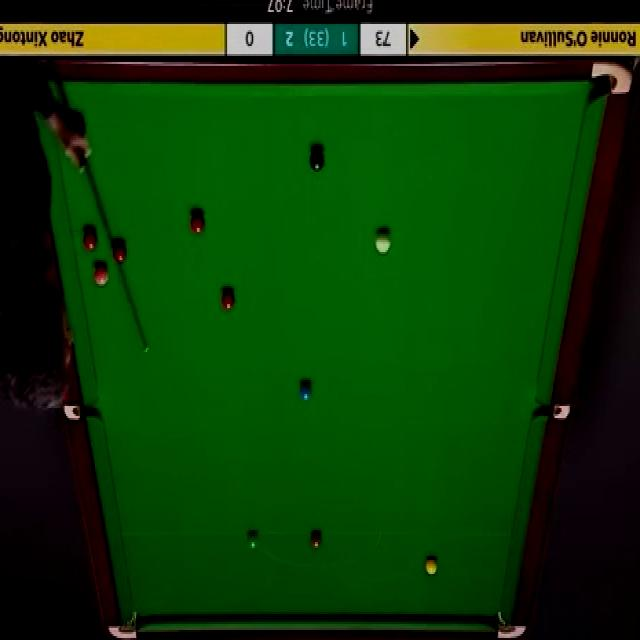black-ball: (309, 147, 325, 174)
blue-ball: (299, 379, 312, 401)
brown-ball: (310, 530, 322, 547)
green-ball: (247, 530, 258, 550)
pink-ball: (92, 262, 109, 287)
red-ball: (189, 210, 207, 235), (220, 288, 235, 313), (82, 229, 99, 249), (112, 241, 127, 262)
white-ball: (374, 228, 393, 256)
yellow-ball: (424, 554, 438, 574)
